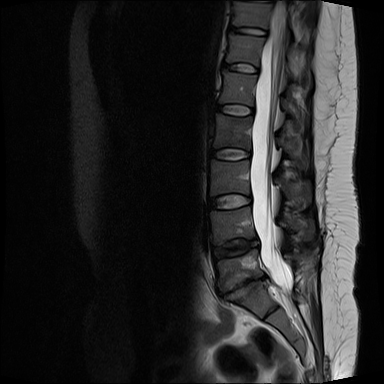Degenerative Disc Disease (DDD): (213, 264, 275, 307)
Lumbar Disc Bulge (LDB): (206, 225, 270, 263), (216, 264, 275, 303)
Normal IVD: (201, 189, 256, 214), (207, 143, 252, 169), (213, 95, 257, 120), (219, 57, 261, 78), (224, 21, 271, 38)
